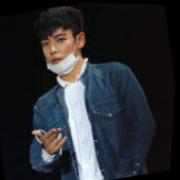WRONG: (39, 22, 85, 76)
